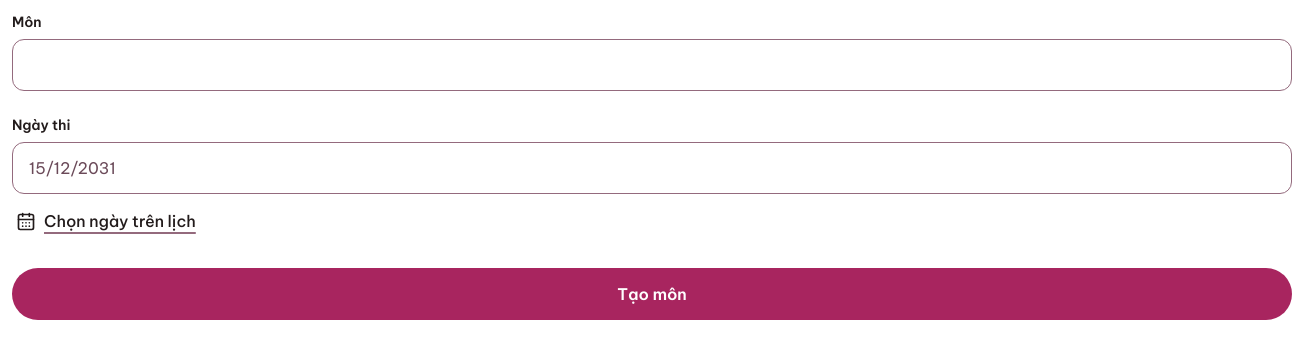
Test: NewSubjectForm (US-01 AC1, AC2, AC7) › an empty name asks for one and sends nothing
In the field labelled "Ngày thi": (652, 168) 12,142 -> 1292,194, type "15/12/2026"
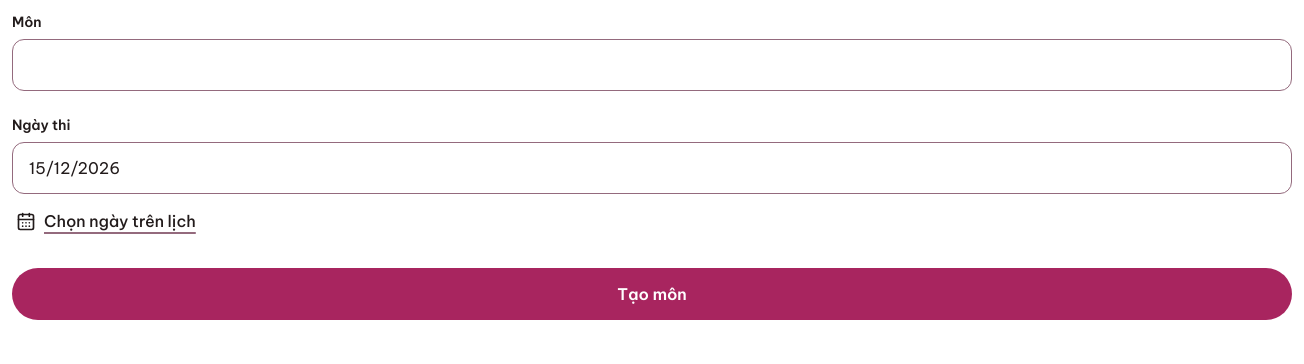
Click the button "Tạo môn": (652, 294) 12,268 -> 1292,320
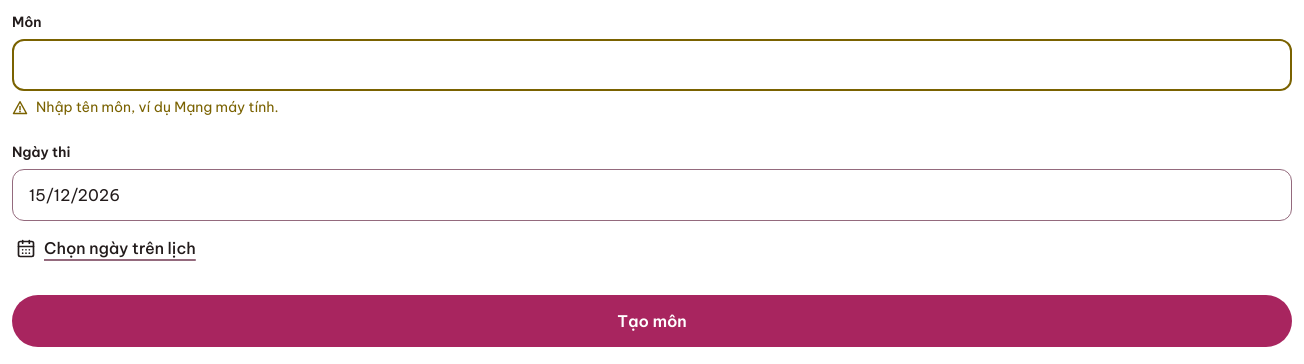
Expected: the text "Nhập tên môn, ví dụ Mạng máy tính." is shown, 36,97 -> 278,118
